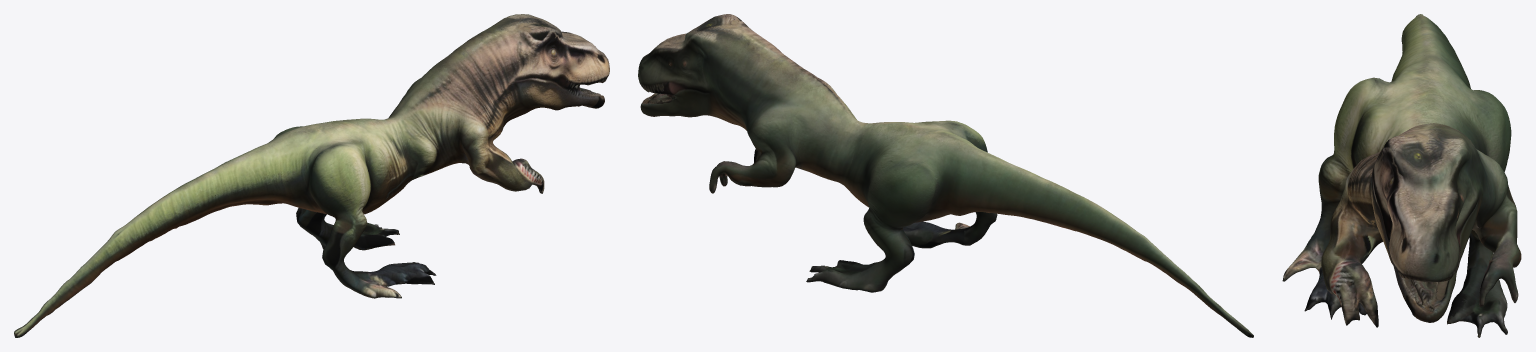
Rendered from asset.glb.
The picture shows the model from 3 angles, left to right: view 1: azimuth 30°, elevation 25°; view 2: azimuth 150°, elevation 25°; view 3: azimuth 270°, elevation 25°; orthographic projection. The views are drawn at different scales.
Size of the model in its own units: 2 by 0.6506 by 0.5182.
1 material, 1 textured.
